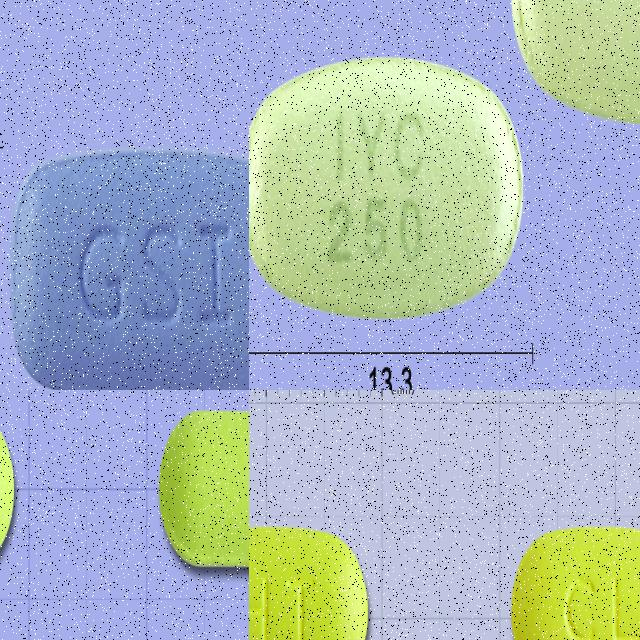Clafacin -500mg: (249, 48, 527, 326), (505, 0, 640, 131)
Clathrocin -500mg: (510, 522, 640, 640), (249, 527, 369, 640)
Clycin Tab-500mg: (160, 409, 249, 567)
Descovy: (10, 144, 249, 390)
